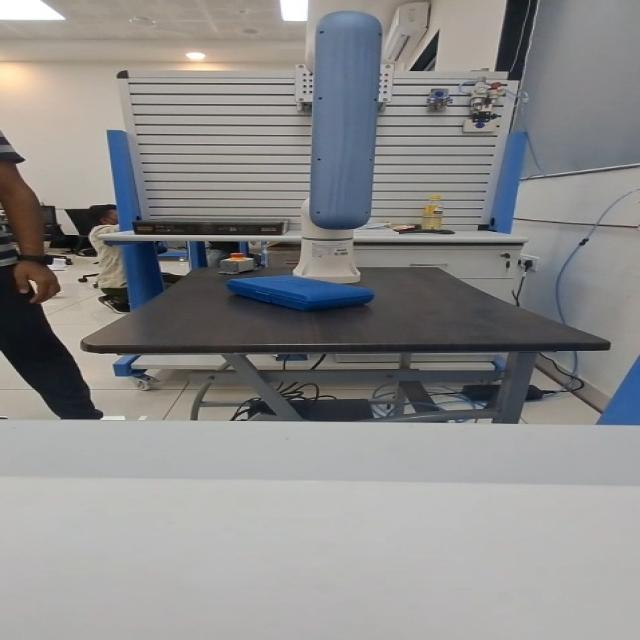top-surface: (240, 276, 359, 295)
